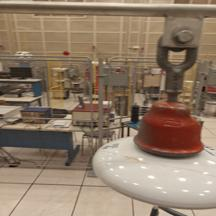insulator: (89, 92, 216, 212)
